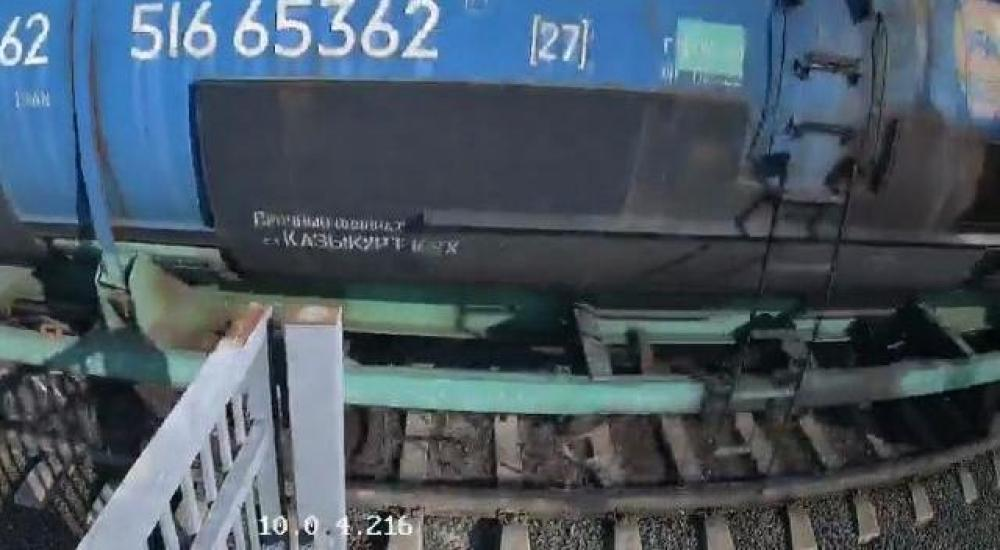Wagon-number: (126, 1, 446, 67)
